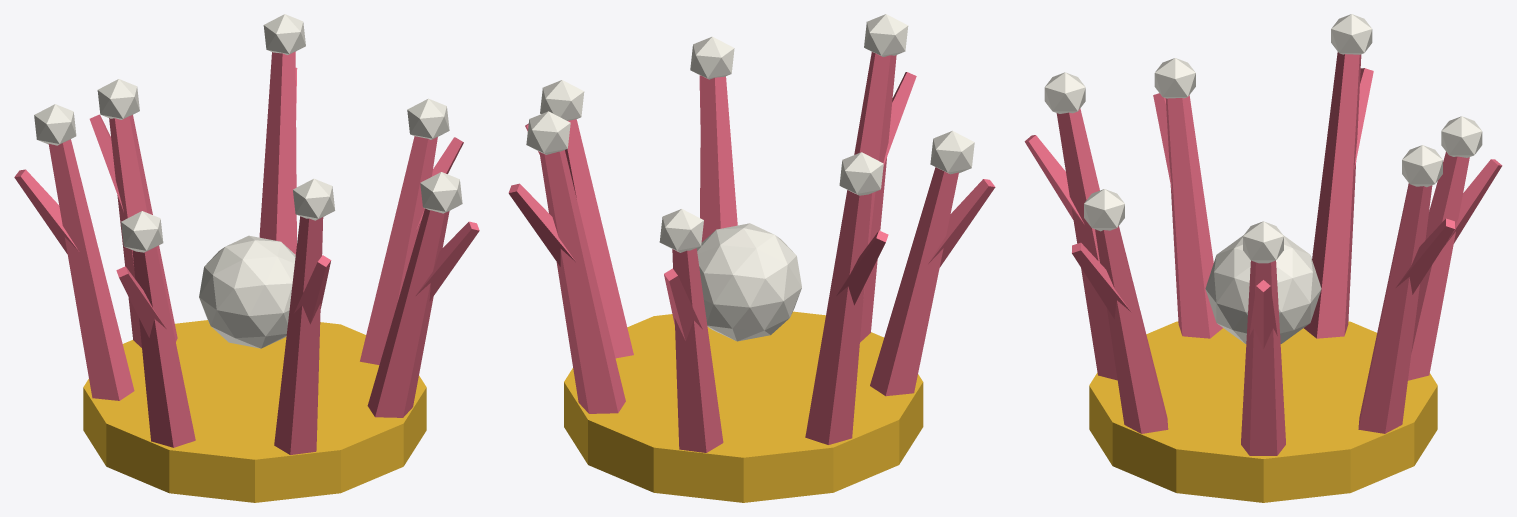
File: QueenCrown.obj
3 views of the same model, side by side, from view 1: azimuth 30°, elevation 25°; view 2: azimuth 150°, elevation 25°; view 3: azimuth 270°, elevation 25° (orthographic). The views are drawn at different scales.
Visible parts, largest first — view 1: QueenCrown; view 2: QueenCrown; view 3: QueenCrown.
Part boxes in pixels (bbox=[...]): QueenCrown: bbox=[14, 14, 479, 502]; QueenCrown: bbox=[508, 14, 995, 502]; QueenCrown: bbox=[1024, 14, 1502, 502].
Bounding box in the file's own units: 0.9625 × 0.77 × 0.9873.
